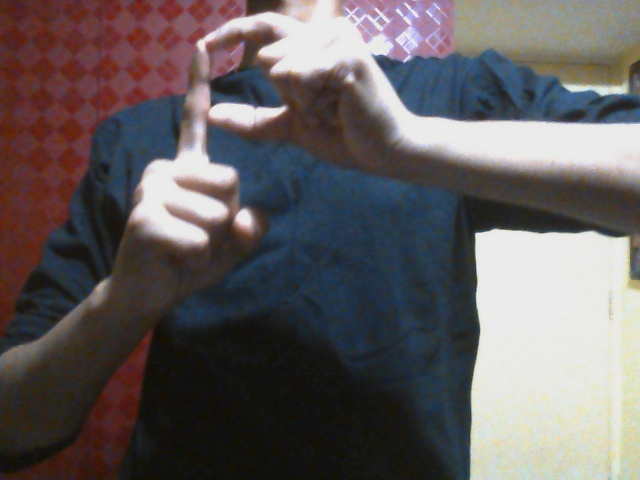P: (125, 11, 394, 305)
